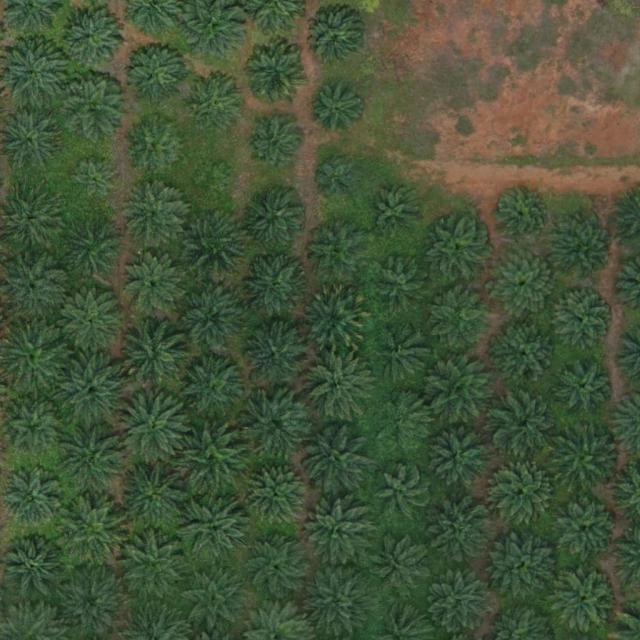Healthy: (59, 355, 130, 426), (302, 499, 373, 570), (489, 250, 560, 321), (552, 423, 623, 494), (240, 185, 310, 256), (59, 423, 129, 494), (59, 501, 129, 572), (119, 462, 190, 532), (120, 533, 190, 604), (176, 424, 246, 495), (181, 495, 251, 566), (240, 391, 310, 462), (242, 531, 312, 602), (428, 356, 498, 427), (426, 567, 497, 637), (492, 320, 562, 391), (178, 567, 248, 638), (241, 253, 311, 323), (179, 209, 249, 279), (177, 285, 247, 355), (57, 569, 127, 639), (120, 319, 190, 389), (118, 394, 188, 464), (176, 352, 246, 422), (303, 350, 373, 420), (300, 423, 370, 493), (304, 567, 374, 637), (427, 424, 497, 494), (492, 392, 562, 462), (491, 532, 561, 602), (305, 221, 368, 284), (187, 73, 250, 136), (245, 463, 308, 526), (555, 357, 618, 420), (552, 569, 615, 632), (305, 7, 368, 69), (244, 44, 306, 107), (124, 41, 186, 104), (126, 115, 188, 178), (121, 183, 183, 246), (121, 252, 183, 315), (61, 6, 123, 69), (62, 76, 124, 139), (63, 218, 125, 281), (62, 290, 124, 353), (5, 539, 67, 602), (244, 324, 306, 387), (434, 289, 497, 351), (432, 501, 494, 564), (493, 461, 555, 524), (554, 220, 616, 283), (557, 497, 619, 560), (2, 468, 64, 530), (426, 220, 488, 282), (554, 288, 616, 350), (309, 84, 364, 139), (368, 186, 423, 241), (247, 117, 302, 172), (6, 404, 61, 459), (375, 329, 430, 384), (377, 394, 432, 449), (374, 466, 429, 521), (493, 188, 548, 243), (378, 261, 432, 316), (375, 538, 429, 593)
Small: (70, 159, 117, 206), (317, 159, 356, 199), (193, 161, 232, 200)
Yellow: (300, 285, 371, 355)
